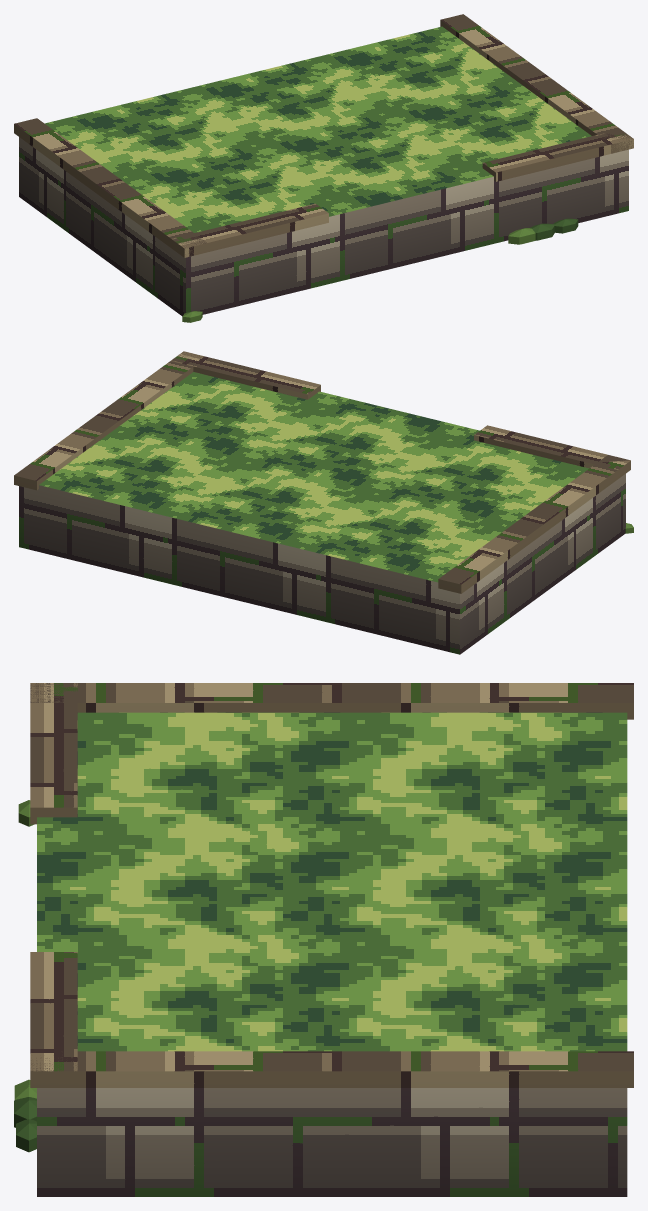
Rendered from scene_raised_bed.glb.
3 views of the same model, one above another, from view 1: azimuth 30°, elevation 25°; view 2: azimuth 150°, elevation 25°; view 3: azimuth 270°, elevation 25° (orthographic). The views are drawn at different scales.
Visible parts, largest first — view 1: scene_raised_bed; view 2: scene_raised_bed; view 3: scene_raised_bed.
Part boxes in pixels (x1,y1,x2,y2): scene_raised_bed: [14, 14, 633, 322]; scene_raised_bed: [14, 351, 633, 654]; scene_raised_bed: [14, 683, 633, 1196].
Size of the model in its own units: 7.04 by 1.15 by 4.72.
Materials: 3 (2 with a texture image).
